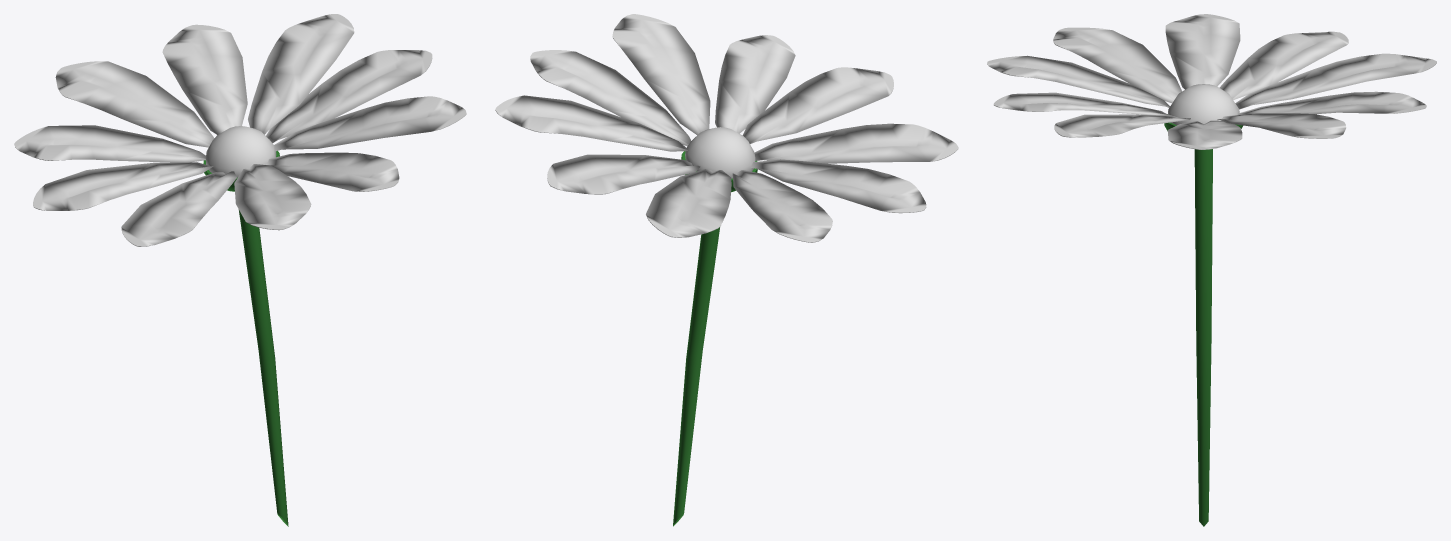
The model's file is flower.obj.
3 views of the same model, side by side, from view 1: azimuth 30°, elevation 25°; view 2: azimuth 150°, elevation 25°; view 3: azimuth 270°, elevation 25° (orthographic). The views are drawn at different scales.
Visible parts, largest first — view 1: Line39, Line34, Line40, Line37, Line32, Line35, Line36, Cylinder03, Line33, Line38, Line31, Sphere04; view 2: Line32, Line33, Line31, Line37, Line38, Line34, Line36, Cylinder03, Line39, Line40, Line35, Sphere04; view 3: Cylinder03, Line33, Line36, Line39, Line35, Line31, Line40, Line38, Line34, Line32, Sphere04, Line37.
Part boxes in pixels (box(x1,y1,x2,y2)): Line39: box(55, 61, 214, 147); Line34: box(248, 14, 354, 134); Line40: box(162, 24, 247, 134); Line37: box(266, 50, 432, 142); Line32: box(274, 96, 466, 151); Line35: box(14, 125, 205, 162); Line36: box(33, 162, 213, 210); Cylinder03: box(238, 209, 288, 526); Line33: box(121, 171, 236, 246); Line38: box(266, 152, 399, 191); Line31: box(234, 164, 311, 230); Sphere04: box(205, 126, 276, 177); Line32: box(612, 14, 710, 135); Line33: box(754, 123, 958, 163); Line31: box(742, 67, 893, 143); Line37: box(530, 50, 690, 145); Line38: box(715, 35, 795, 133); Line34: box(495, 95, 687, 151); Line36: box(751, 159, 926, 213); Cylinder03: box(673, 227, 719, 526); Line39: box(646, 169, 731, 237); Line40: box(547, 154, 700, 194); Line35: box(732, 170, 832, 242); Sphere04: box(685, 127, 755, 178); Cylinder03: box(1194, 149, 1212, 526); Line33: box(1053, 27, 1181, 103); Line36: box(1165, 14, 1240, 89); Line39: box(1235, 53, 1436, 109); Line35: box(1219, 31, 1348, 99); Line31: box(987, 55, 1169, 107); Line40: box(1238, 91, 1426, 114); Line38: box(993, 92, 1172, 115); Line34: box(1217, 113, 1346, 138); Line32: box(1054, 114, 1190, 137); Sphere04: box(1168, 84, 1239, 125); Line37: box(1167, 120, 1242, 149).
Bounding box in the file's own units: 22.82 × 24.3 × 22.12.
